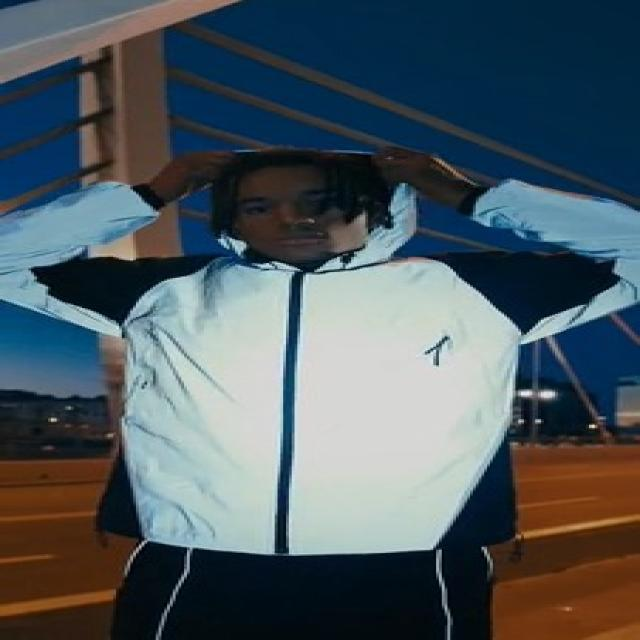Jacket_Wearer: (0, 204, 640, 558)
Person: (0, 141, 640, 640)
